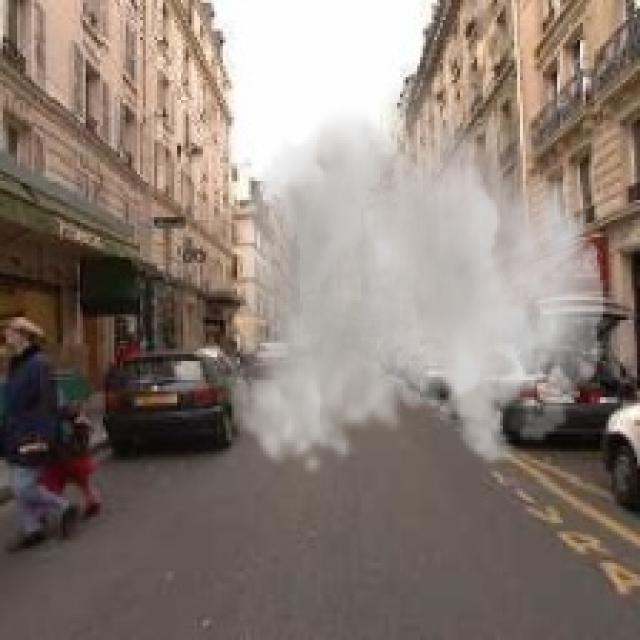smoke: (225, 57, 606, 480)
